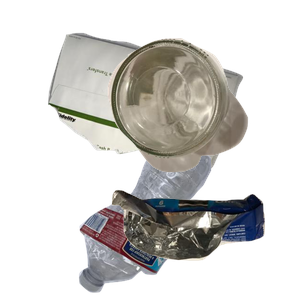glass: (105, 36, 300, 201)
paper: (45, 30, 281, 195)
plastic: (76, 131, 280, 300)
trash: (109, 187, 300, 300)
